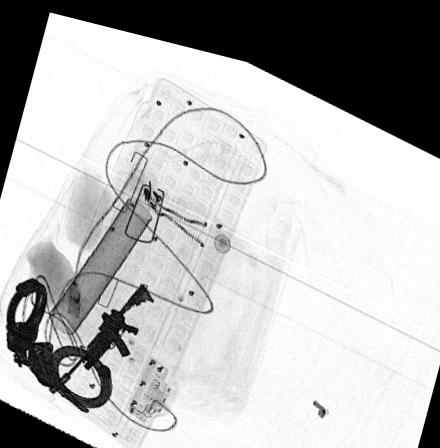Gun: (46, 275, 155, 392)
HandCuffs: (5, 276, 116, 412)
